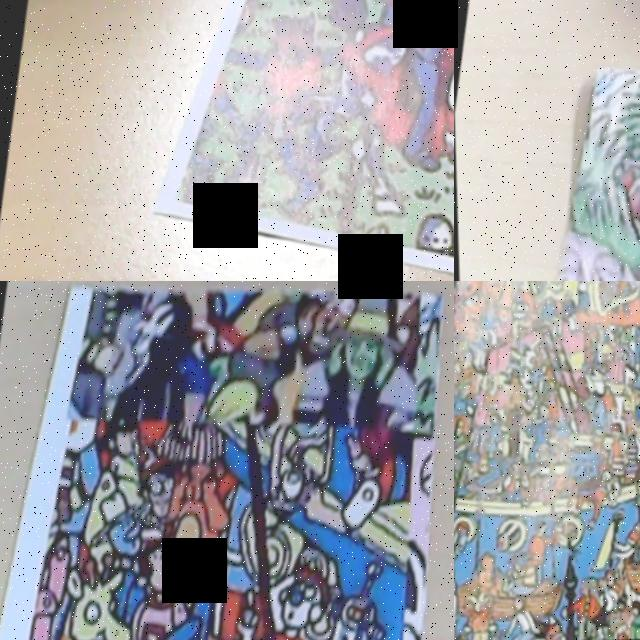waldo: (122, 435, 187, 531), (605, 161, 640, 273)
